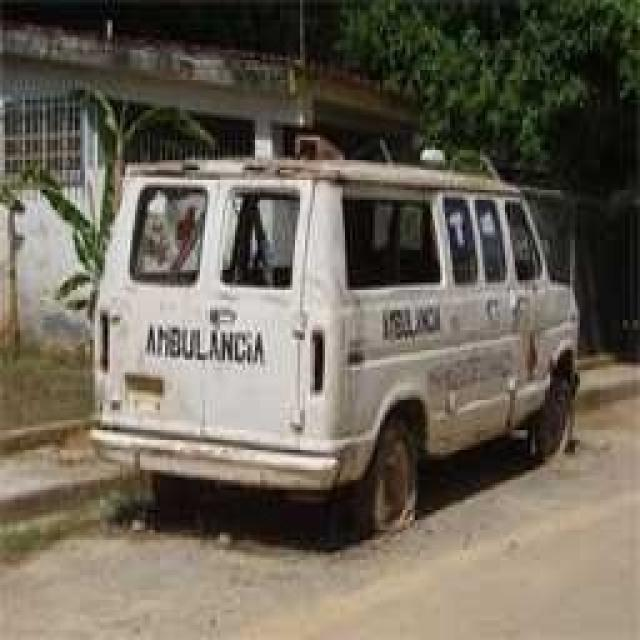ambulance: (95, 130, 583, 548)
